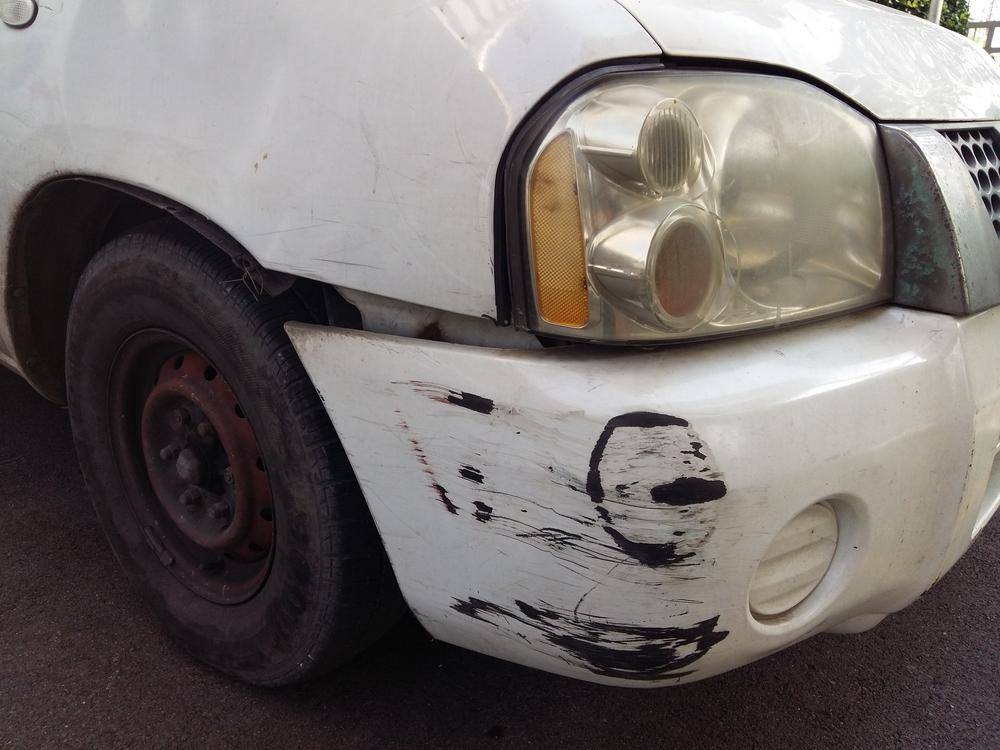scratch: (382, 374, 730, 683)
